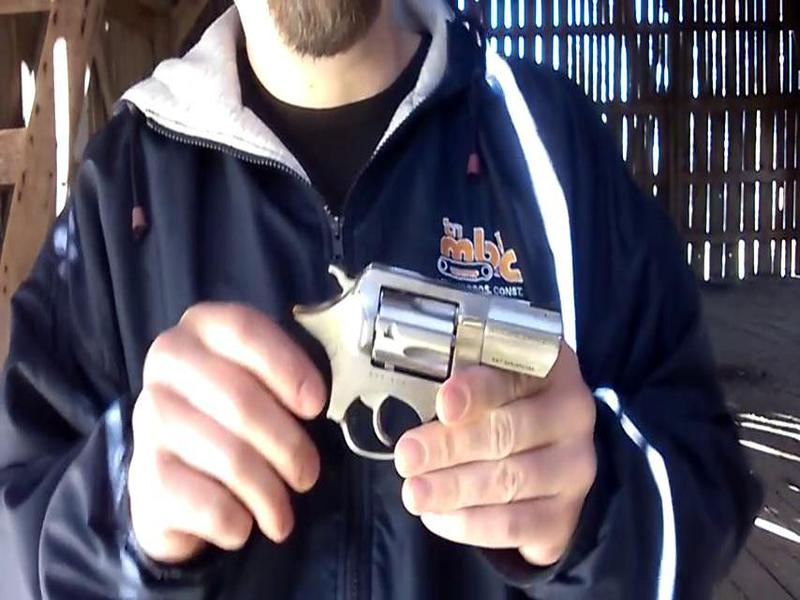Revolver: (237, 251, 575, 522)
